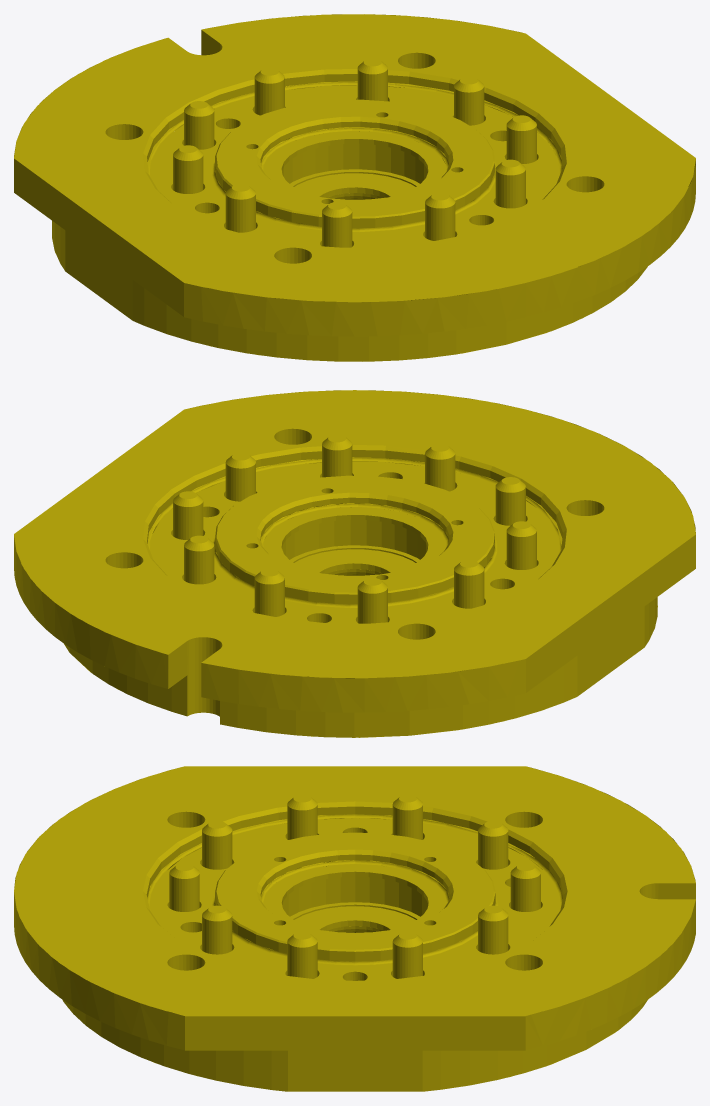
File: arm_left_link_7_t.dae
3 renders of one model, top to bottom at view 1: azimuth 30°, elevation 25°; view 2: azimuth 150°, elevation 25°; view 3: azimuth 270°, elevation 25°, orthographic.
Parts seen in each view (by area): view 1: ShapeIndexedFaceSet; view 2: ShapeIndexedFaceSet; view 3: ShapeIndexedFaceSet.
Boxes of the visible parts, x1,y1,x2,y2 form: ShapeIndexedFaceSet: (14,14,695,361); ShapeIndexedFaceSet: (14,390,695,737); ShapeIndexedFaceSet: (14,766,695,1091).
Bounding box in the file's own units: 0.078 × 0.0899 × 0.0145.
